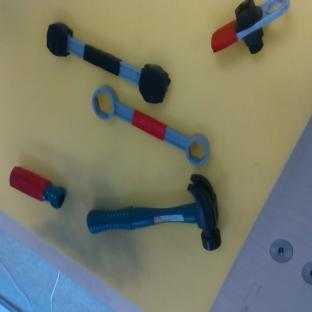part_2_good: (5, 164, 69, 210)
part_3_bad: (37, 18, 175, 107)
part_3_good: (85, 81, 216, 171)
